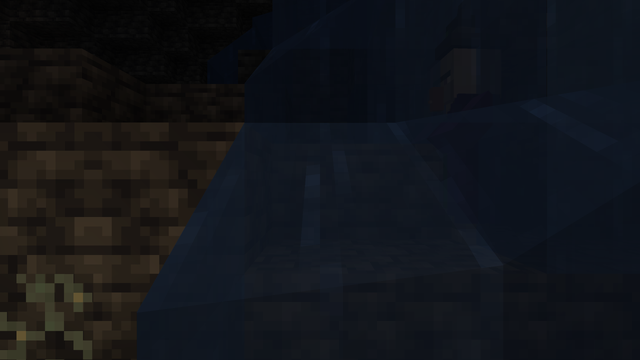sorcieres: (422, 37, 511, 245)
